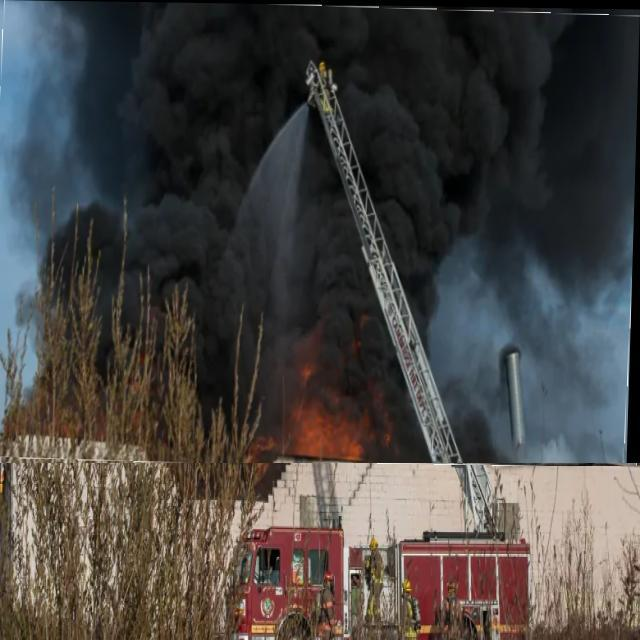fire: (293, 336, 395, 458)
smoke: (449, 21, 628, 288), (8, 6, 239, 193), (34, 211, 352, 333), (365, 19, 447, 299), (523, 296, 623, 455)
